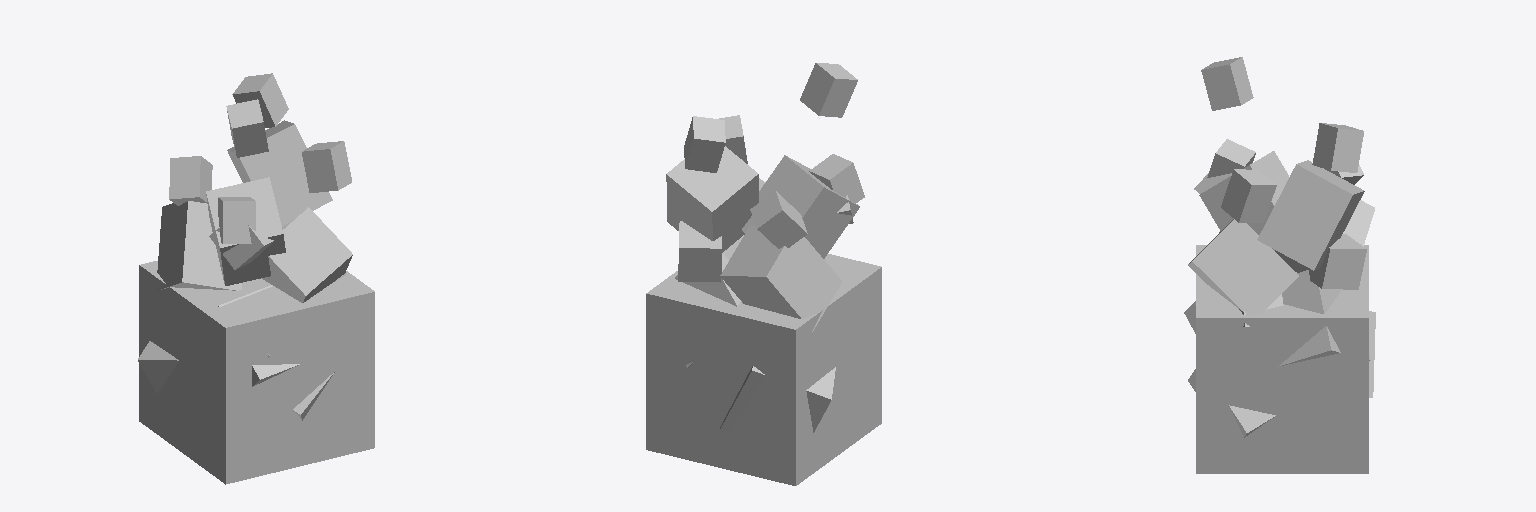
The model's file is torch flame.obj.
The picture shows the model from 3 angles: view 1: azimuth 30°, elevation 25°; view 2: azimuth 150°, elevation 25°; view 3: azimuth 270°, elevation 25°; orthographic projection.
Parts seen in each view (by area): view 1: Box001, Box022, Box007, Box005, Box008, Box006, Box009, Box011, Box013, Box012, Box010, Box019 (+2 smaller); view 2: Box022, Box007, Box008, Box006, Box013, Box015, Box011, Box012, Box019, Box010, Box023, Box009; view 3: Box001, Box008, Box022, Box005, Box023, Box009, Box015, Box012, Box013, Box006, Box010, Box007 (+1 smaller).
Part boxes in pixels (left/top/right/bottom): Box001: left=141, top=261, right=374, bottom=483; Box022: left=139, top=265, right=337, bottom=484; Box007: left=157, top=201, right=241, bottom=290; Box005: left=262, top=207, right=352, bottom=302; Box008: left=227, top=120, right=332, bottom=225; Box006: left=206, top=177, right=285, bottom=285; Box009: left=302, top=141, right=351, bottom=192; Box011: left=169, top=156, right=212, bottom=205; Box013: left=226, top=99, right=268, bottom=157; Box012: left=232, top=73, right=288, bottom=127; Box010: left=218, top=197, right=255, bottom=243; Box019: left=138, top=341, right=178, bottom=393; Box022: left=646, top=254, right=881, bottom=485; Box007: left=720, top=226, right=841, bottom=331; Box008: left=666, top=146, right=758, bottom=252; Box006: left=742, top=155, right=859, bottom=258; Box013: left=800, top=63, right=857, bottom=117; Box015: left=678, top=221, right=721, bottom=282; Box011: left=750, top=191, right=807, bottom=248; Box012: left=684, top=116, right=725, bottom=172; Box019: left=720, top=366, right=835, bottom=433; Box010: left=809, top=154, right=864, bottom=203; Box023: left=675, top=253, right=740, bottom=367; Box009: left=719, top=115, right=747, bottom=163; Box001: left=1196, top=245, right=1368, bottom=473; Box008: left=1257, top=160, right=1364, bottom=270; Box022: left=1196, top=245, right=1368, bottom=473; Box005: left=1188, top=219, right=1298, bottom=314; Box023: left=1278, top=270, right=1370, bottom=366; Box009: left=1221, top=169, right=1276, bottom=222; Box015: left=1301, top=234, right=1366, bottom=289; Box012: left=1312, top=123, right=1363, bottom=172; Box013: left=1201, top=57, right=1253, bottom=110; Box006: left=1199, top=151, right=1288, bottom=250; Box010: left=1207, top=139, right=1255, bottom=177; Box007: left=1275, top=200, right=1374, bottom=272.
Bounding box in the file's own units: 2.4 × 4.55 × 2.19.